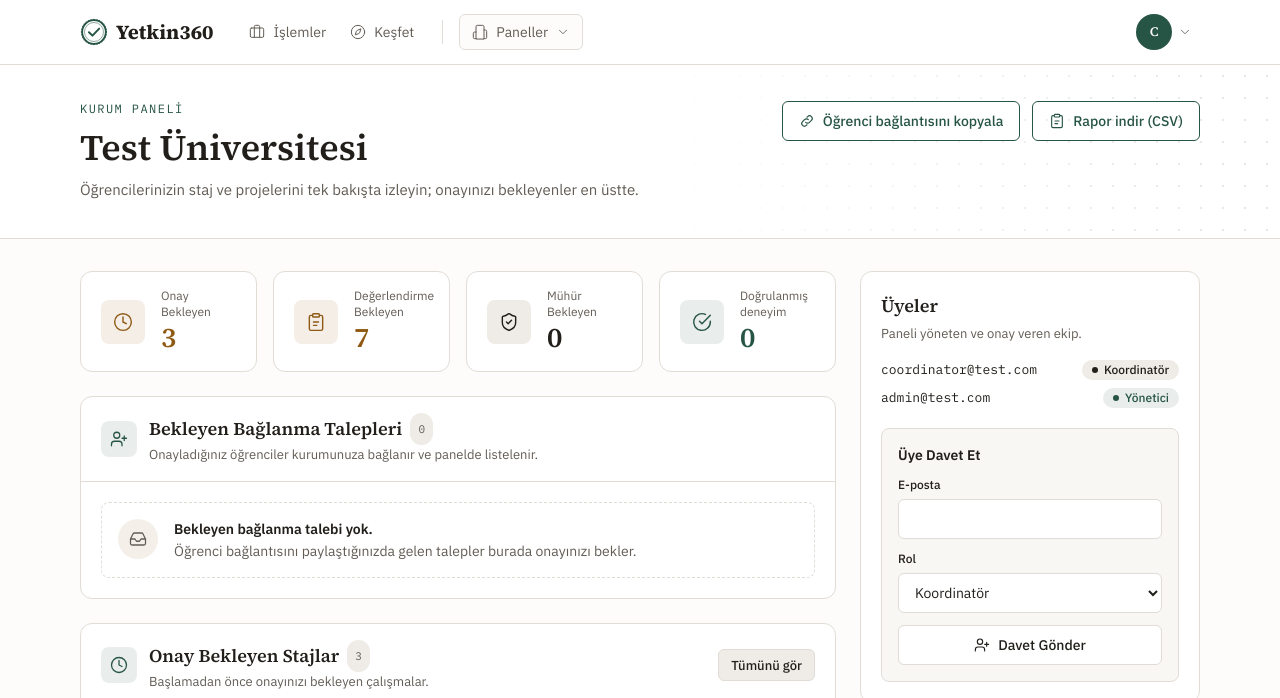
KurumPanelPage (/kurum/[id]/panel) › YET-202/ENT-01: Üyeler › davet başarısız olursa hata mesajı gösterilir
Type "biri@test.com" into the field labelled "E-posta" at (1030, 518), box [898,498,1162,538]
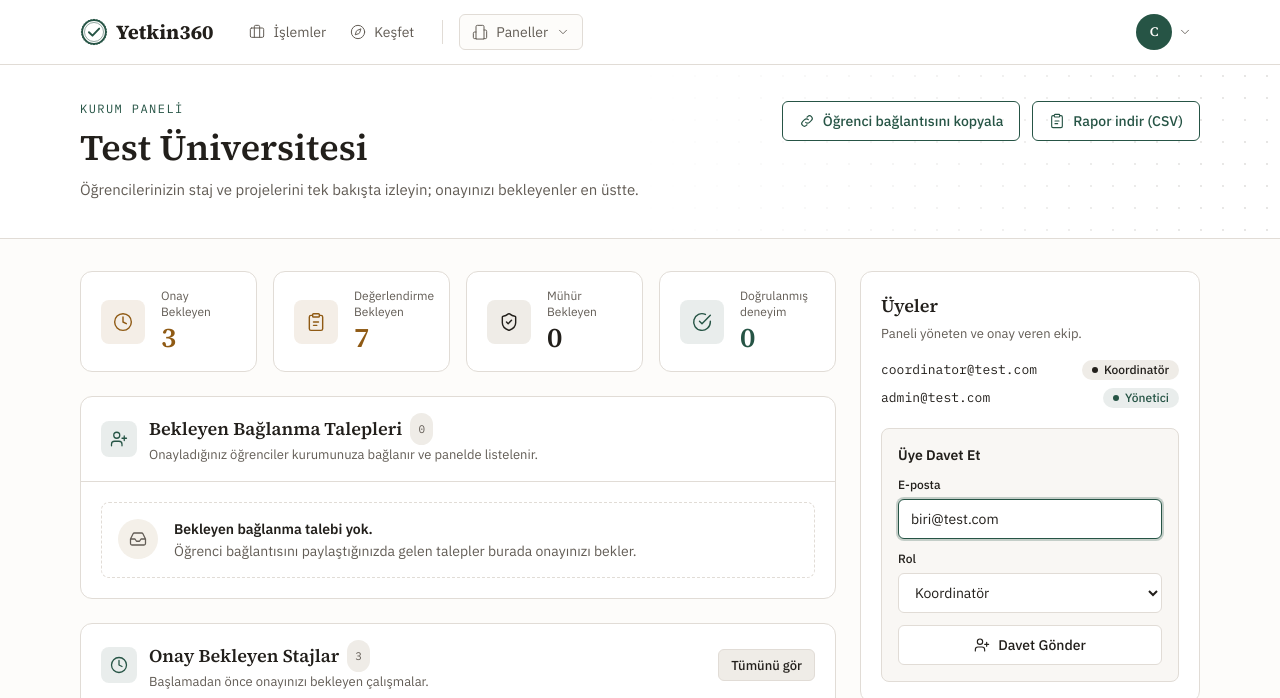
Click the button "Davet Gönder" at (1030, 644), box [898,624,1162,664]
(page scrolled)
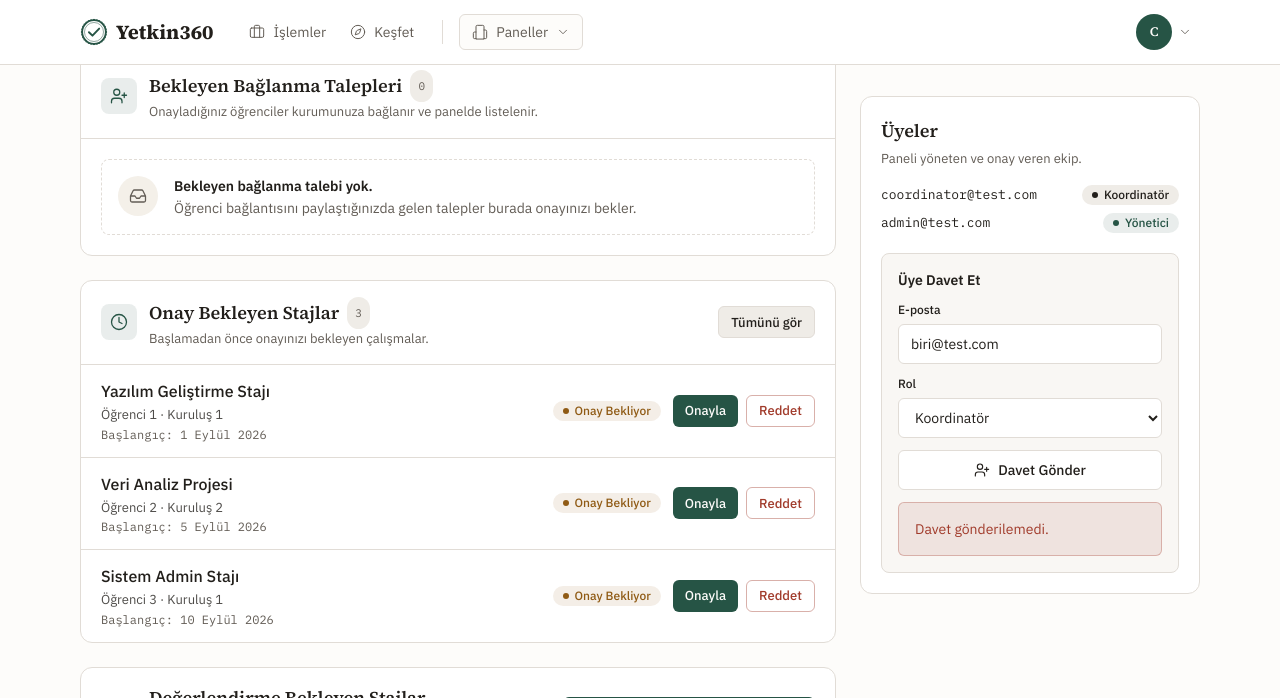
Expected: the text "Davet gönderilemedi." is shown, [898,502,1162,556]
